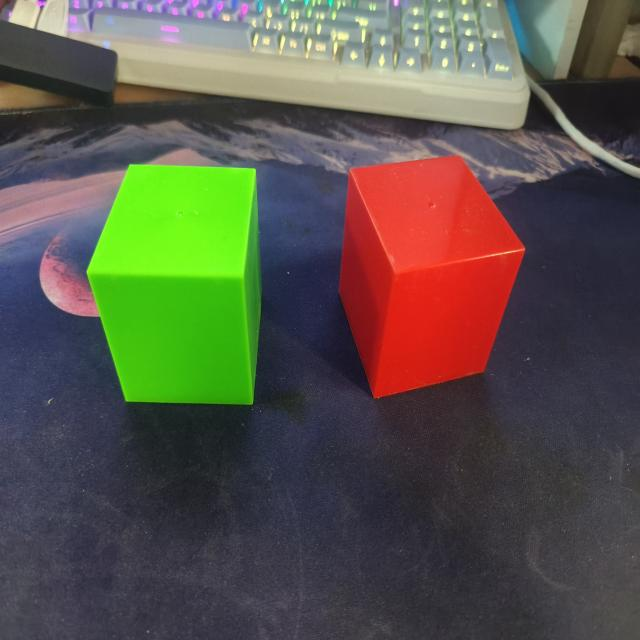green: (82, 156, 271, 410)
red: (336, 150, 533, 406)
